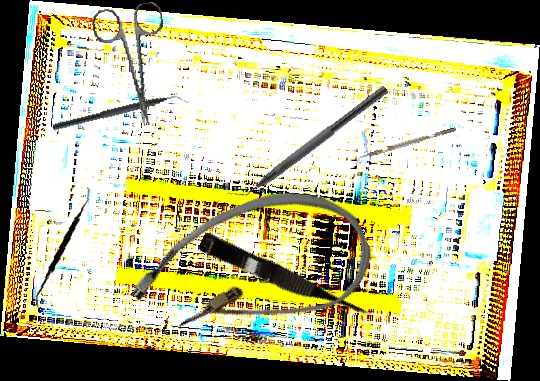Cannula: (118, 164, 386, 378)
Chopper: (225, 74, 389, 210), (52, 88, 190, 140), (353, 127, 458, 165)
Iris Scissors: (90, 0, 179, 132)
Micro Scissor: (196, 231, 375, 329)
Spatula Surgical: (24, 186, 103, 310)
